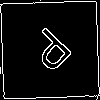P: (25, 25, 82, 81)
